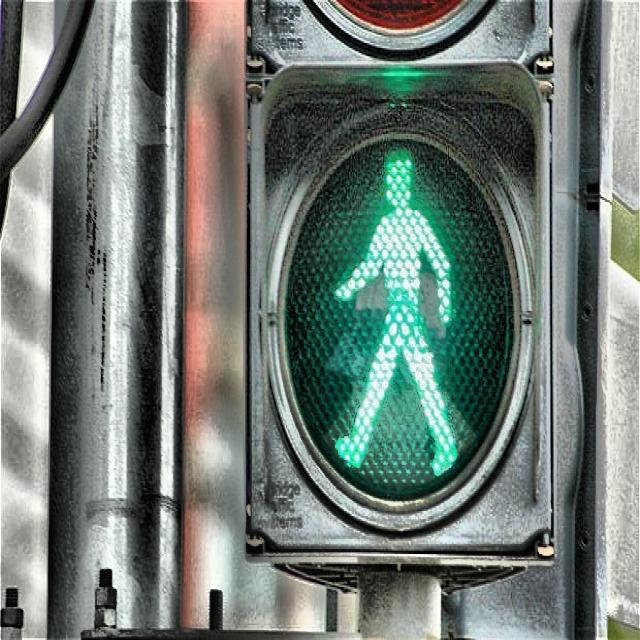green_light: (330, 151, 460, 482)
